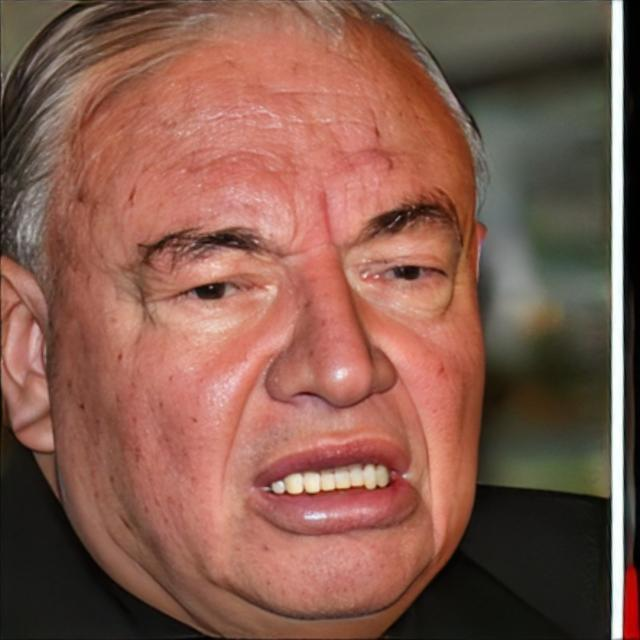disgust: (47, 7, 490, 621)
